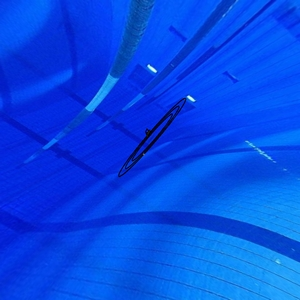circle: (117, 96, 190, 180)
submarine: (141, 127, 154, 139)
